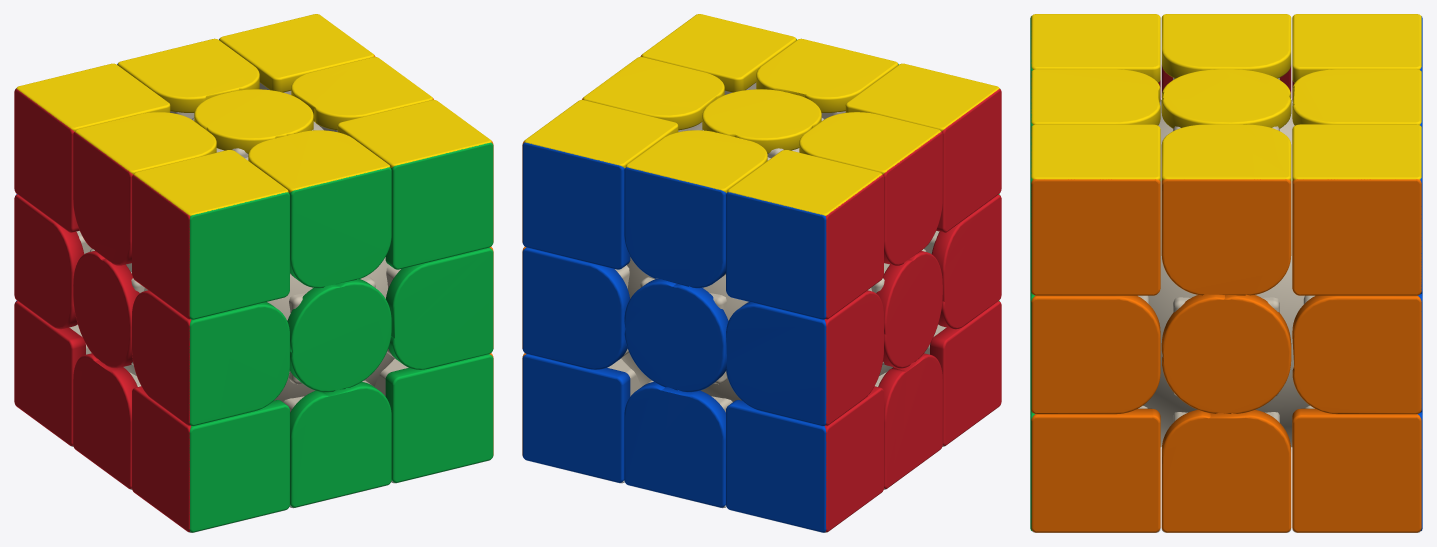
3 views of the same model, side by side, from view 1: azimuth 30°, elevation 25°; view 2: azimuth 150°, elevation 25°; view 3: azimuth 270°, elevation 25° (orthographic). The views are drawn at different scales.
Visible parts, largest first — view 1: piece_-1,1,1, piece_-1,-1,1, piece_1,1,1, piece_-1,0,1, piece_0,1,1, piece_-1,1,-1, piece_1,-1,1, piece_-1,1,0, piece_1,0,1, piece_0,-1,1, piece_0,0,1, piece_-1,-1,-1 (+8 smaller); view 2: piece_-1,1,-1, piece_-1,-1,-1, piece_1,1,-1, piece_-1,0,-1, piece_0,1,-1, piece_-1,1,1, piece_1,-1,-1, piece_-1,1,0, piece_1,0,-1, piece_0,-1,-1, piece_0,0,-1, piece_-1,-1,1 (+8 smaller); view 3: piece_1,1,-1, piece_1,1,1, piece_1,1,0, piece_1,-1,1, piece_1,-1,-1, piece_1,-1,0, piece_1,0,1, piece_1,0,-1, piece_1,0,0, piece_-1,1,0, piece_-1,1,-1, piece_-1,1,1 (+4 smaller).
Boxes of the visible parts, x1=… form: piece_-1,1,1: x1=132, y1=150, x2=289, y2=319; piece_-1,-1,1: x1=132, y1=386, x2=289, y2=532; piece_1,1,1: x1=337, y1=100, x2=493, y2=269; piece_-1,0,1: x1=132, y1=290, x2=289, y2=425; piece_0,1,1: x1=248, y1=130, x2=391, y2=288; piece_-1,1,-1: x1=14, y1=63, x2=170, y2=232; piece_1,-1,1: x1=374, y1=353, x2=493, y2=483; piece_-1,1,0: x1=73, y1=112, x2=216, y2=265; piece_1,0,1: x1=386, y1=247, x2=493, y2=369; piece_0,-1,1: x1=283, y1=380, x2=391, y2=508; piece_0,0,1: x1=287, y1=277, x2=391, y2=392; piece_-1,-1,-1: x1=14, y1=300, x2=91, y2=446; piece_-1,1,-1: x1=726, y1=150, x2=883, y2=319; piece_-1,-1,-1: x1=726, y1=386, x2=883, y2=532; piece_1,1,-1: x1=522, y1=100, x2=678, y2=269; piece_-1,0,-1: x1=726, y1=290, x2=883, y2=425; piece_0,1,-1: x1=624, y1=130, x2=767, y2=288; piece_-1,1,1: x1=845, y1=63, x2=1001, y2=232; piece_1,-1,-1: x1=522, y1=353, x2=641, y2=483; piece_-1,1,0: x1=799, y1=112, x2=942, y2=265; piece_1,0,-1: x1=522, y1=247, x2=629, y2=369; piece_0,-1,-1: x1=624, y1=380, x2=732, y2=508; piece_0,0,-1: x1=624, y1=277, x2=728, y2=392; piece_-1,-1,1: x1=924, y1=300, x2=1001, y2=446; piece_1,1,-1: x1=1292, y1=124, x2=1422, y2=295; piece_1,1,1: x1=1030, y1=124, x2=1160, y2=295; piece_1,1,0: x1=1161, y1=124, x2=1291, y2=295; piece_1,-1,1: x1=1030, y1=405, x2=1160, y2=532; piece_1,-1,-1: x1=1292, y1=405, x2=1422, y2=532; piece_1,-1,0: x1=1161, y1=409, x2=1291, y2=532; piece_1,0,1: x1=1030, y1=292, x2=1160, y2=414; piece_1,0,-1: x1=1292, y1=292, x2=1422, y2=414; piece_1,0,0: x1=1161, y1=294, x2=1291, y2=413; piece_-1,1,0: x1=1161, y1=14, x2=1291, y2=98; piece_-1,1,-1: x1=1292, y1=14, x2=1422, y2=99; piece_-1,1,1: x1=1030, y1=14, x2=1160, y2=99.
Bounding box in the file's own units: 2 × 2 × 2.
